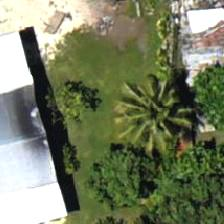Kelapa_Sawit: (117, 65, 207, 155)
